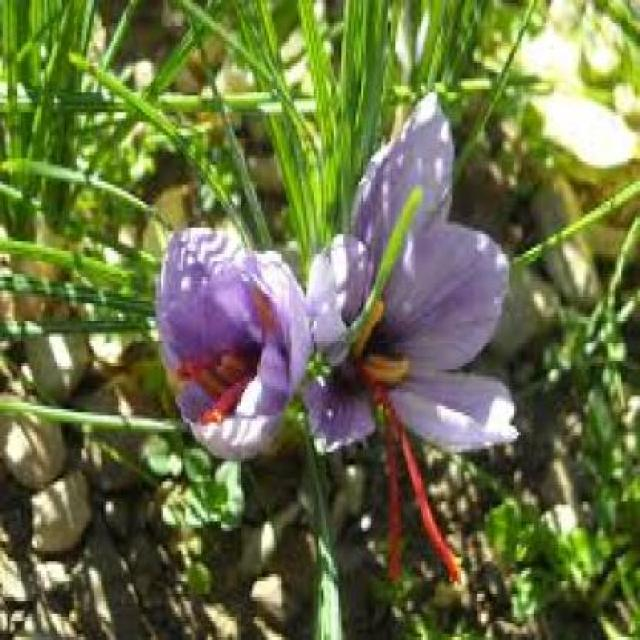saffron open: (305, 94, 518, 451), (156, 229, 312, 458)
